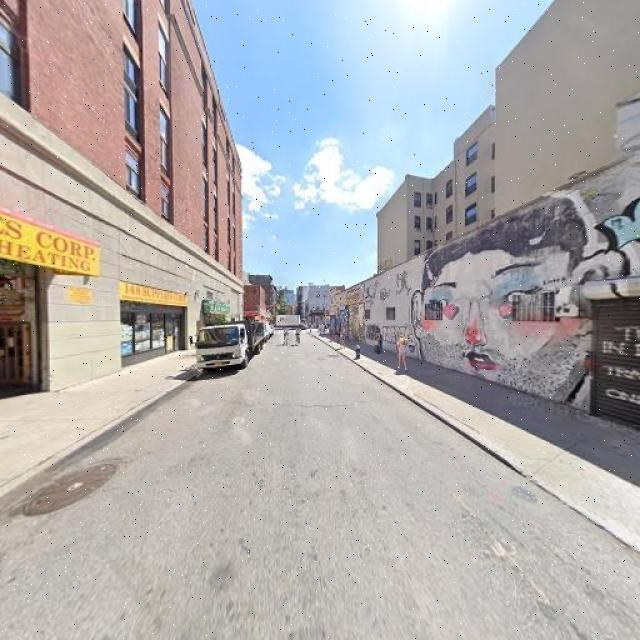Building: (1, 1, 244, 404), (337, 158, 640, 433)
